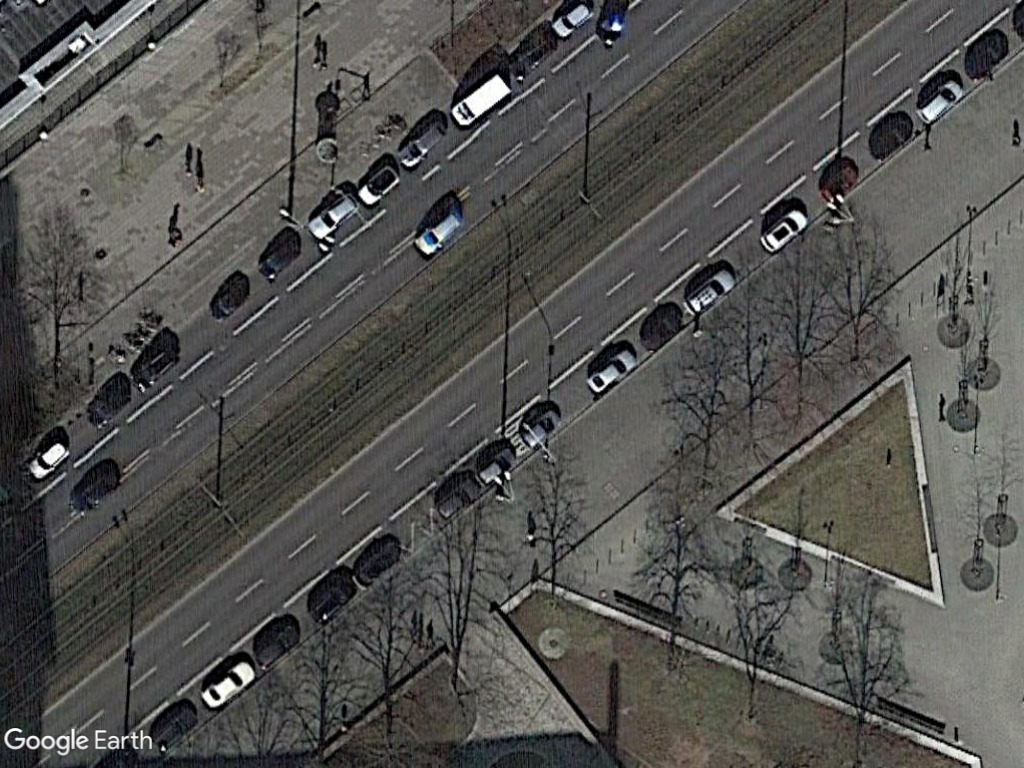car: (196, 655, 264, 711), (678, 264, 742, 321), (411, 201, 467, 263), (582, 343, 640, 400), (399, 112, 453, 173), (305, 187, 363, 242), (908, 74, 967, 128), (755, 203, 812, 256), (26, 432, 75, 489), (356, 162, 401, 211)
van: (447, 67, 516, 134)
